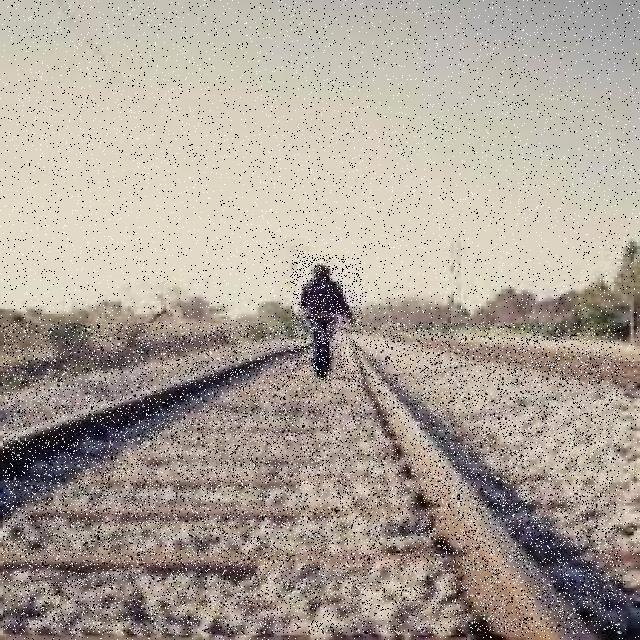rail: (5, 325, 622, 634)
